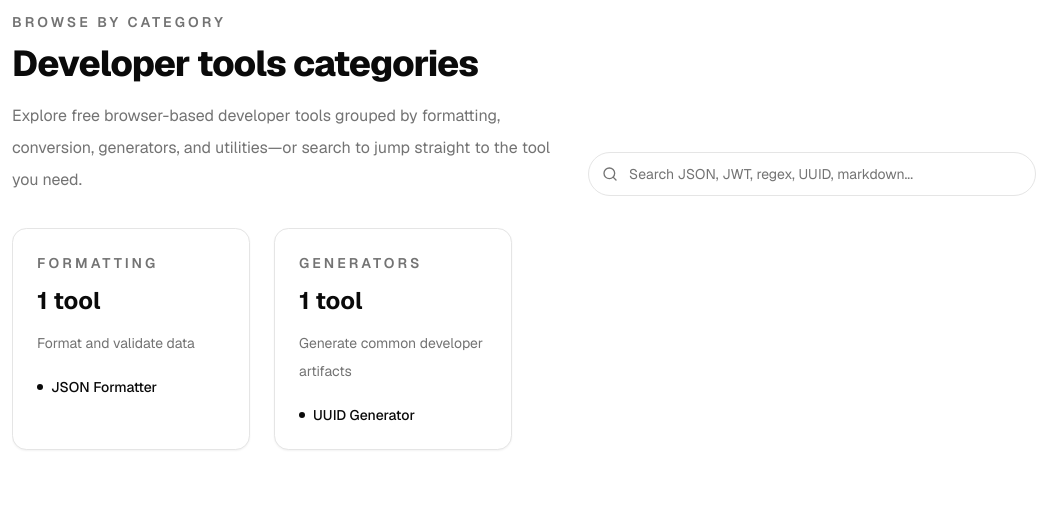
Test: CategoryExplorer › filters tools within categories and hides empty categories
Type "uuid" into the field named "Search developer tools" at (812, 174), box [588,152,1036,196]
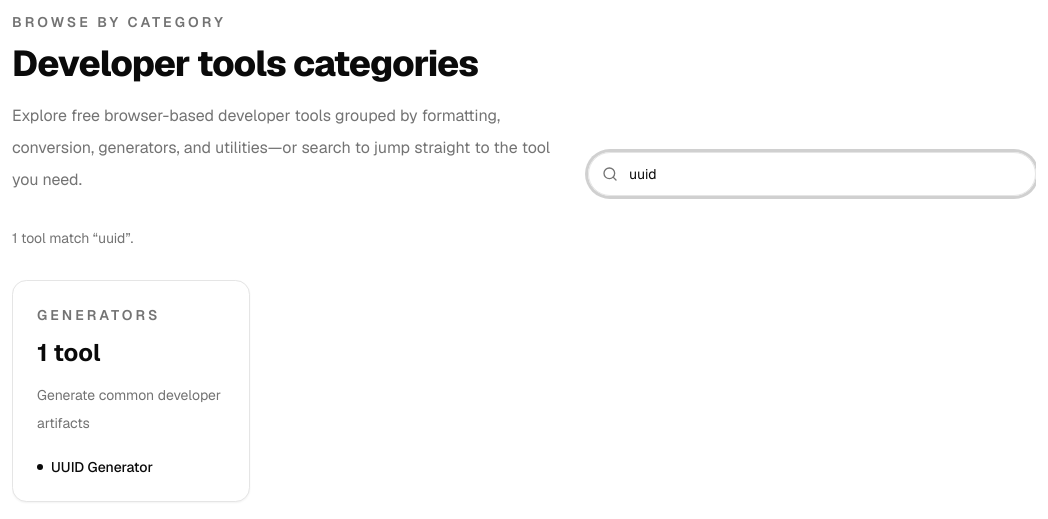
Expected: the text "UUID Generator" is shown, [51,457,153,477]
Expected: the link "JSON Formatter" is gone
Expected: the text "1 tool match “uuid”." is shown, [12,229,133,247]
